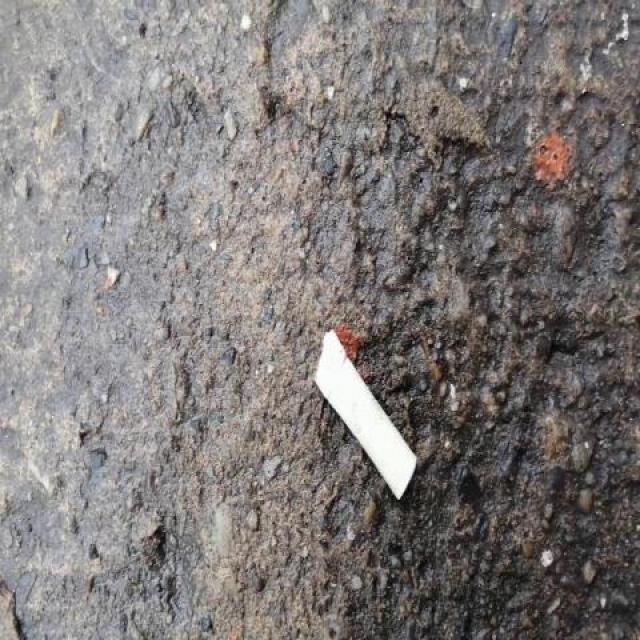non-organic waste: (311, 321, 421, 508)
